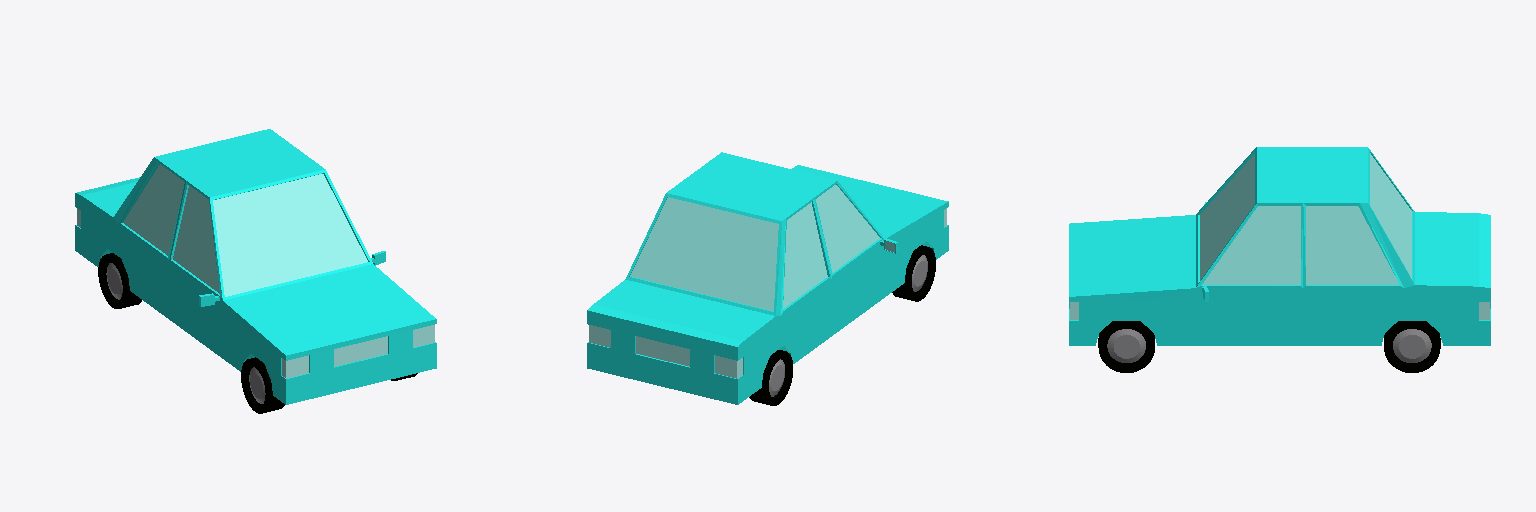
3 renders of one model, left to right at view 1: azimuth 30°, elevation 25°; view 2: azimuth 150°, elevation 25°; view 3: azimuth 270°, elevation 25°, orthographic.
Parts seen in each view (by area): view 1: Car3_Cube.006; view 2: Car3_Cube.006; view 3: Car3_Cube.006.
Part boxes in pixels (x1,y1,x2,y2): Car3_Cube.006: (75, 129, 436, 413); Car3_Cube.006: (587, 152, 948, 405); Car3_Cube.006: (1069, 147, 1490, 372).
Bounding box in the file's own units: 2.47 × 2.06 × 4.85.
1 materials, 1 textured.